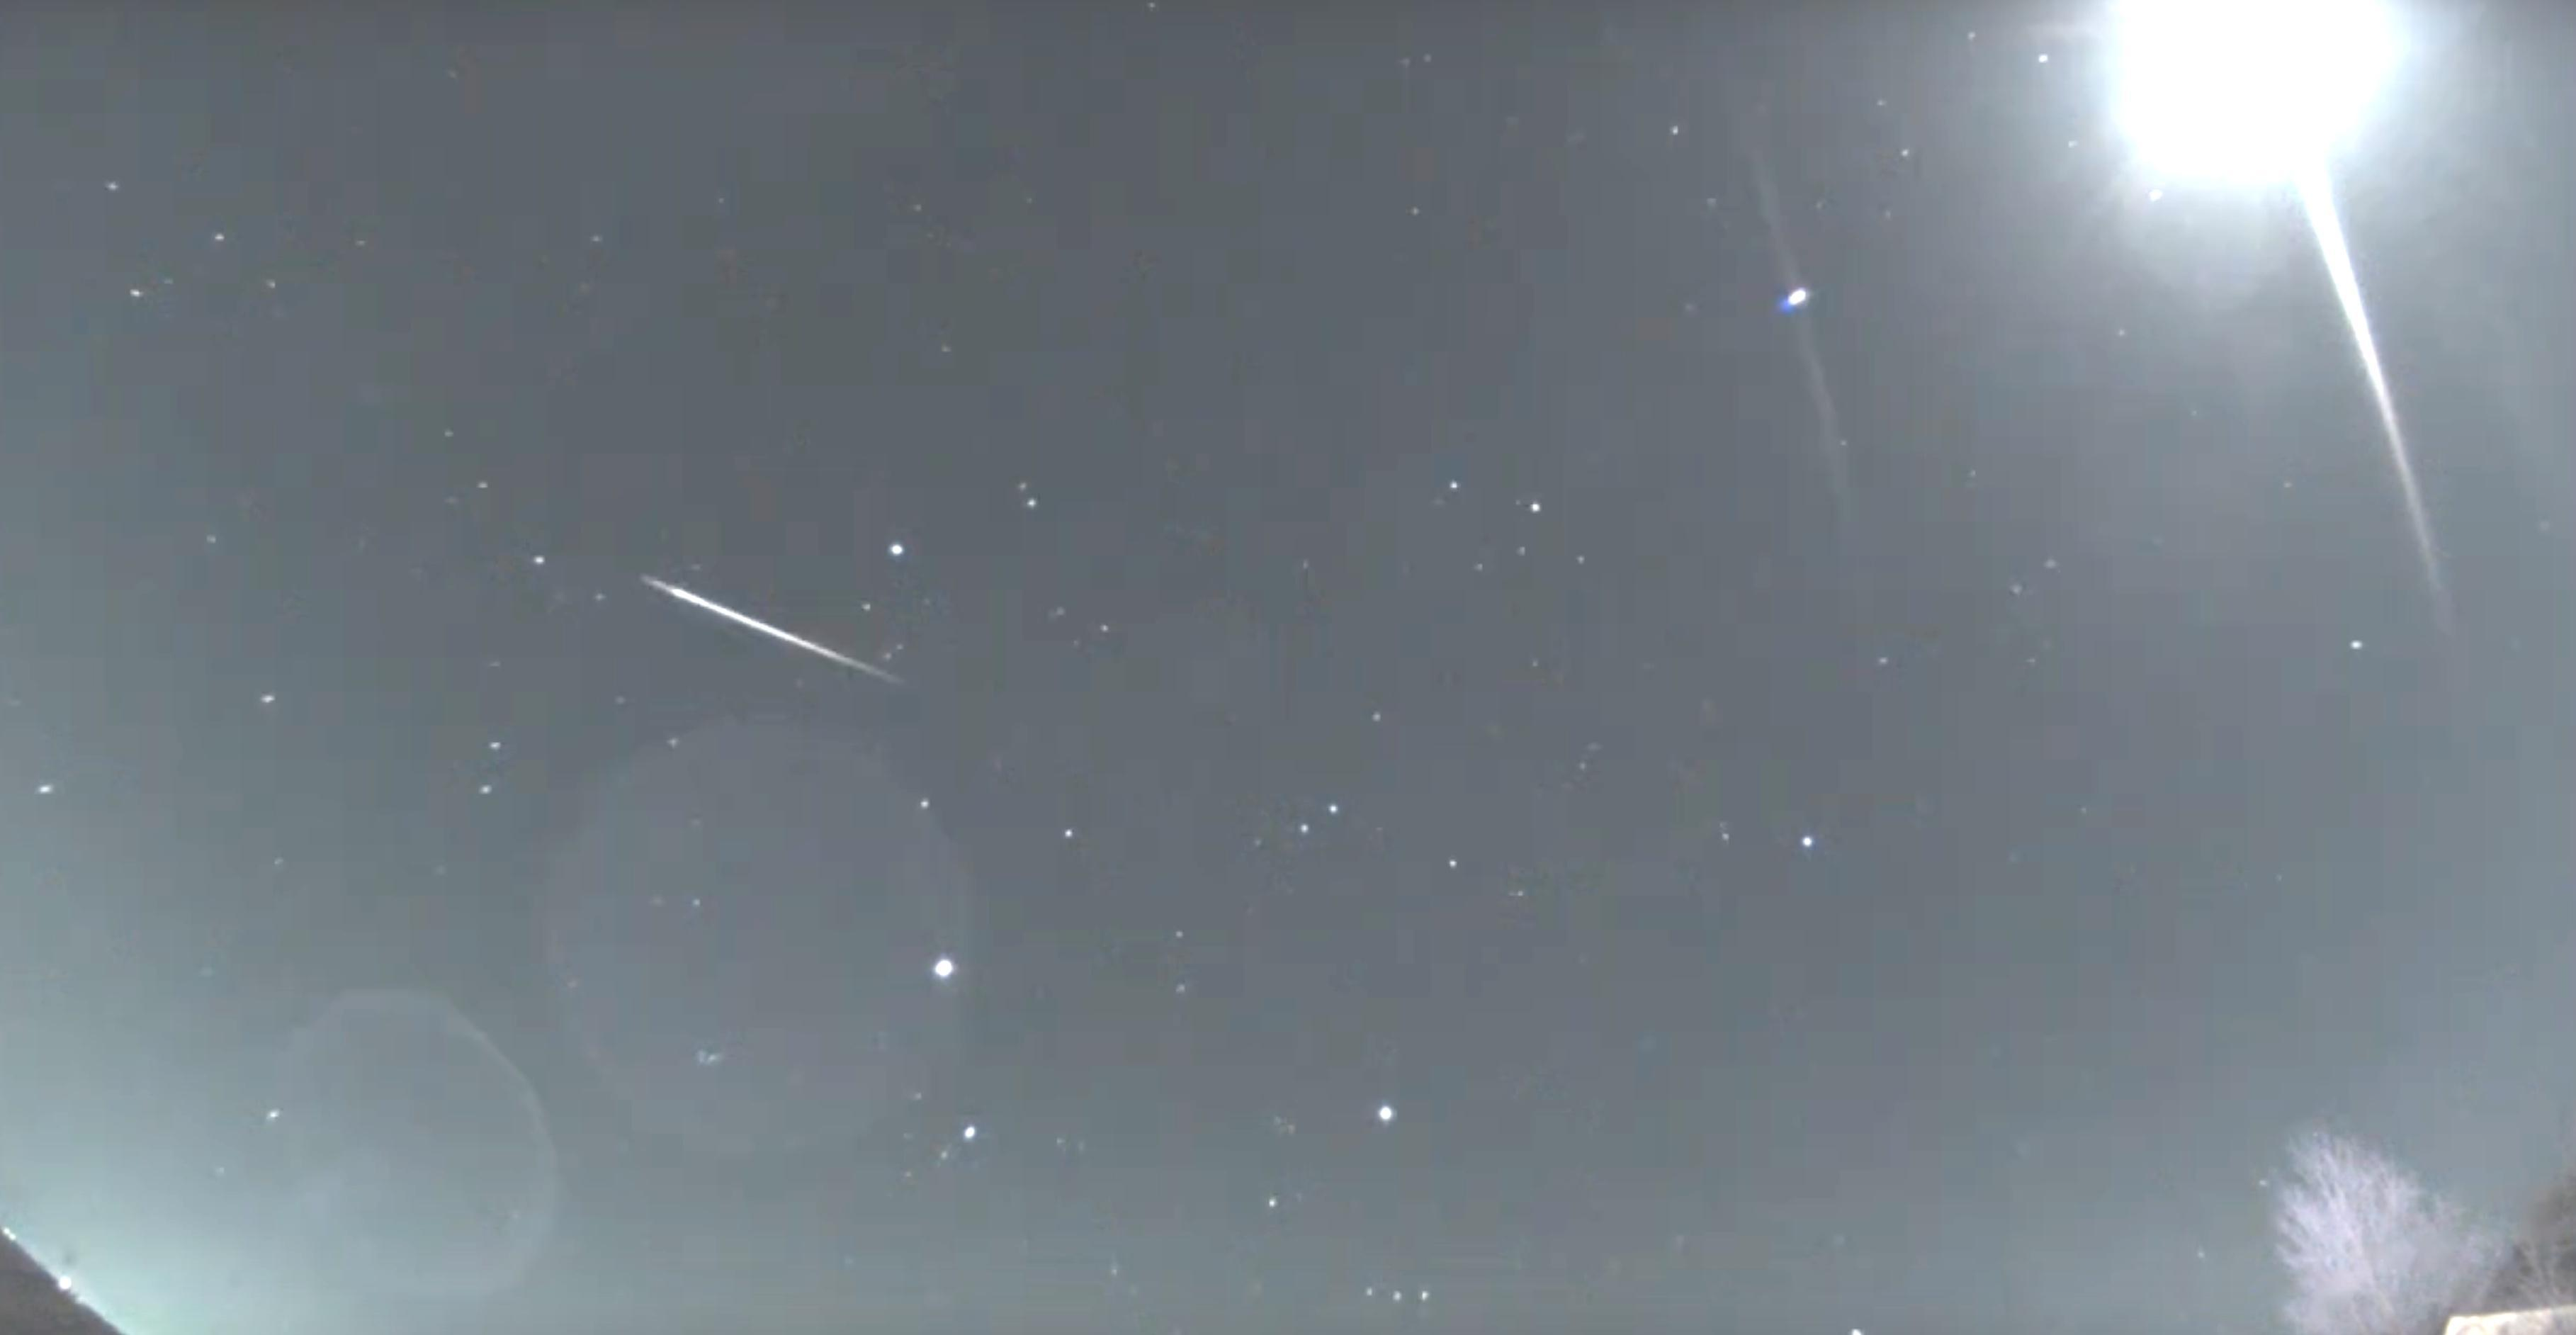meteorite: (524, 555, 978, 703)
